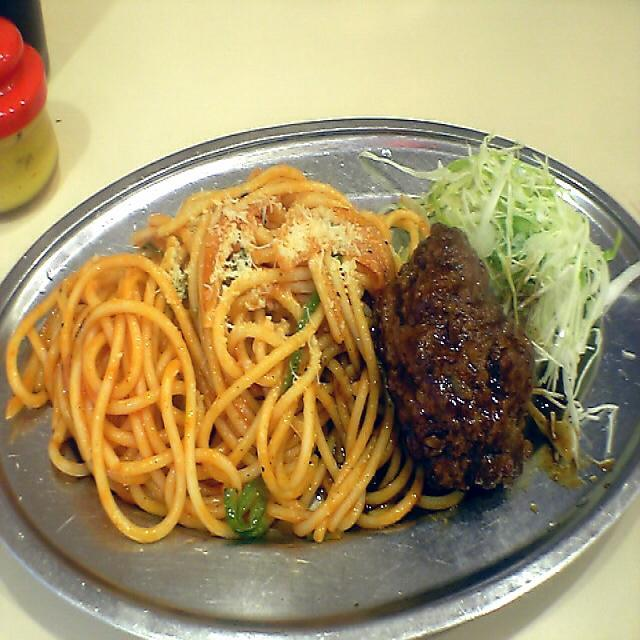Pasta: (34, 168, 414, 538)
